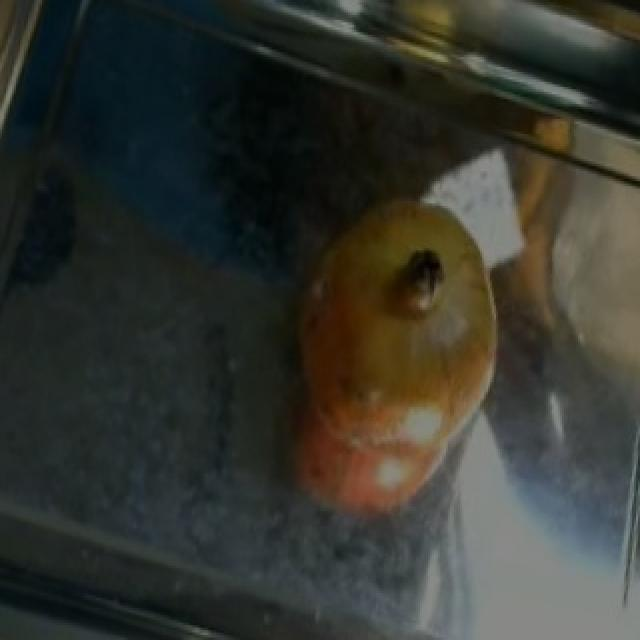fruit: (270, 166, 528, 427)
